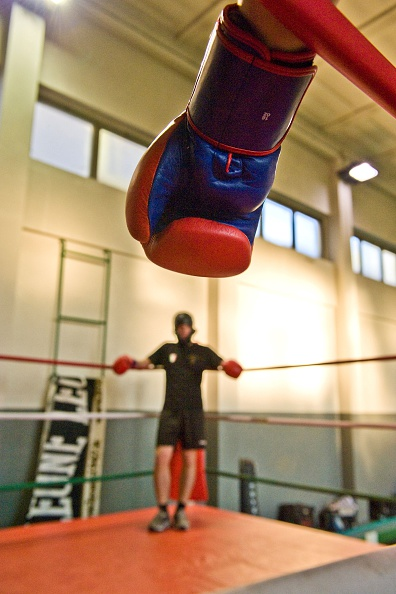em pe: (138, 305, 239, 536)
